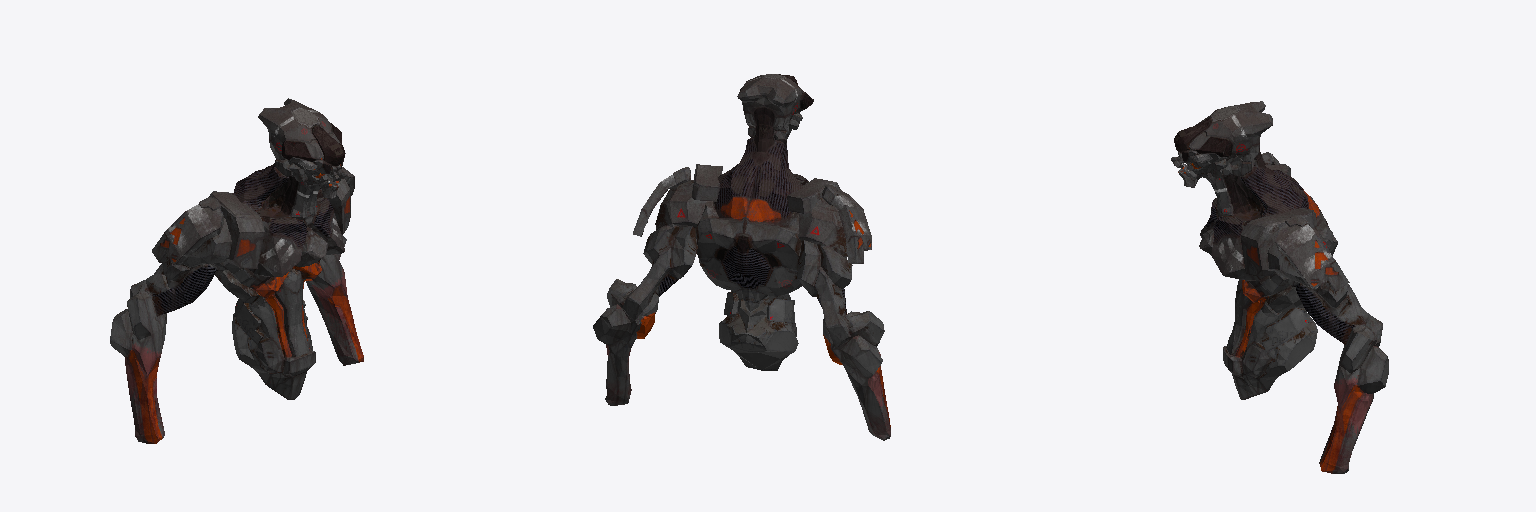
The picture shows the model from 3 angles: view 1: azimuth 30°, elevation 25°; view 2: azimuth 150°, elevation 25°; view 3: azimuth 270°, elevation 25°; orthographic projection.
Visible parts, largest first — view 1: g_body01_low_meshId0_name, g_arm01_low_meshId4_name, g_arm03_low_meshId5_name, g_arm02_low_meshId3_name, g_body02_low_meshId2_name; view 2: g_body01_low_meshId0_name, g_arm01_low_meshId4_name, g_arm02_low_meshId3_name, g_arm03_low_meshId5_name, g_body02_low_meshId2_name; view 3: g_body01_low_meshId0_name, g_arm01_low_meshId4_name, g_arm02_low_meshId3_name, g_arm03_low_meshId5_name, g_body02_low_meshId2_name.
Boxes of the visible parts, x1=… form: g_body01_low_meshId0_name: x1=215, y1=98, x2=347, y2=399; g_arm01_low_meshId4_name: x1=110, y1=218, x2=363, y2=443; g_arm03_low_meshId5_name: x1=209, y1=176, x2=350, y2=268; g_arm02_low_meshId3_name: x1=152, y1=167, x2=354, y2=264; g_body02_low_meshId2_name: x1=235, y1=299, x2=307, y2=344; g_body01_low_meshId0_name: x1=696, y1=74, x2=813, y2=370; g_arm01_low_meshId4_name: x1=593, y1=180, x2=890, y2=440; g_arm02_low_meshId3_name: x1=633, y1=167, x2=871, y2=263; g_arm03_low_meshId5_name: x1=692, y1=164, x2=840, y2=213; g_body02_low_meshId2_name: x1=724, y1=292, x2=794, y2=323; g_body01_low_meshId0_name: x1=1171, y1=101, x2=1332, y2=399; g_arm01_low_meshId4_name: x1=1267, y1=228, x2=1388, y2=473; g_arm02_low_meshId3_name: x1=1261, y1=152, x2=1349, y2=291; g_arm03_low_meshId5_name: x1=1241, y1=164, x2=1316, y2=275; g_body02_low_meshId2_name: x1=1262, y1=308, x2=1307, y2=351.
Size of the model in its own units: 1.72 by 2 by 1.25.
Materials: 1 (1 with a texture image).